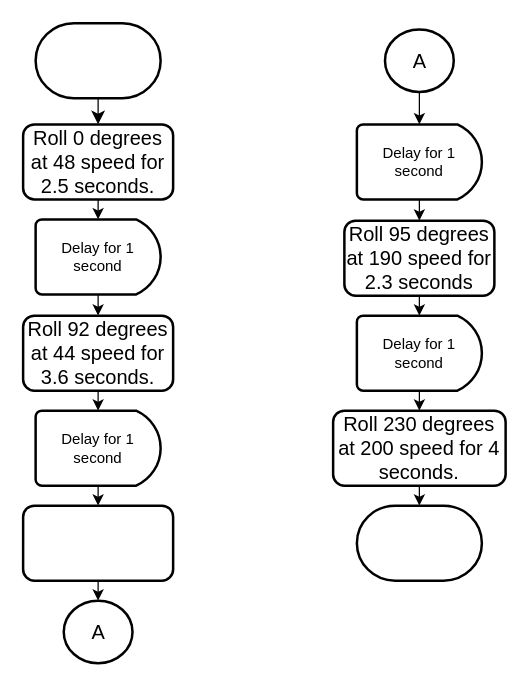
Image size: 528x685. Some labels were removed from this diagram. Each missing label, with the centre of its shape:
"Roll 2 degrees at 44 speed for 4 seconds." belongs at (97,542).
"Start" belongs at (97,60).
"Stop" belongs at (418,542).
